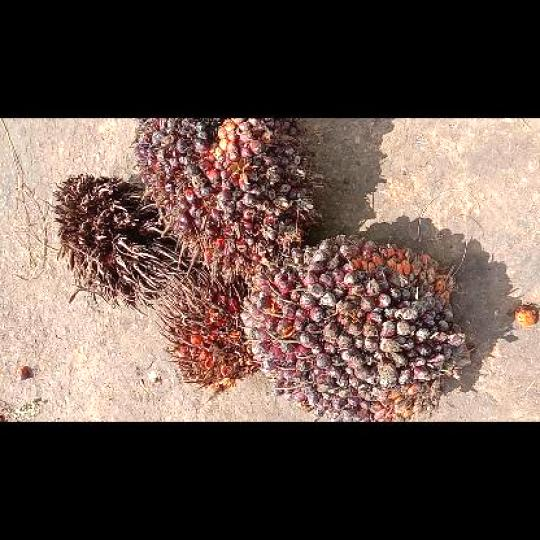kurang masak: (238, 232, 476, 420)
masak: (129, 120, 331, 286)
terlalu masak: (152, 268, 270, 397)
